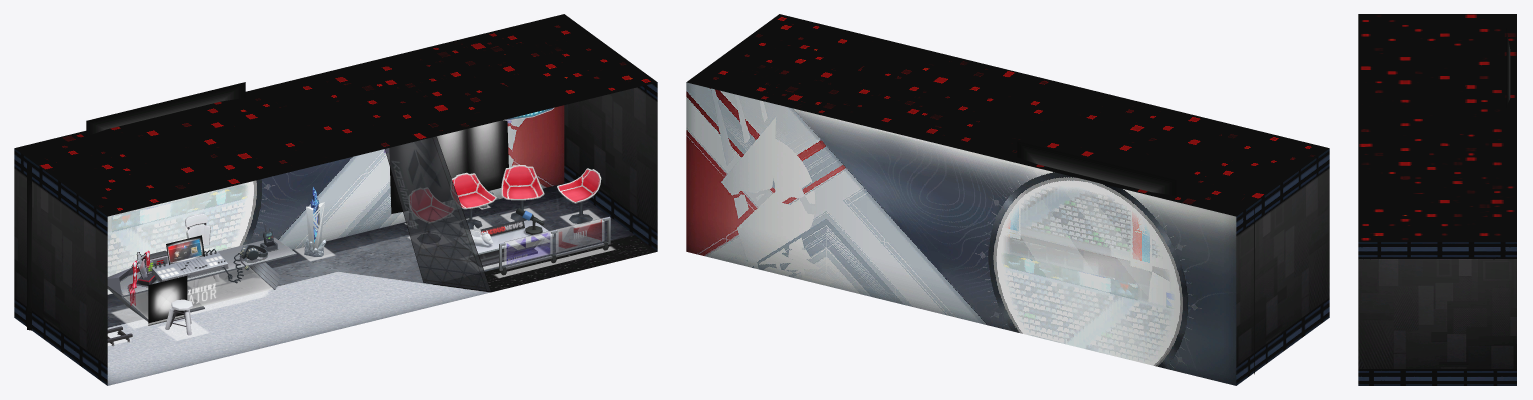
File: kazimierz.glb
The picture shows the model from 3 angles, left to right: view 1: azimuth 30°, elevation 25°; view 2: azimuth 150°, elevation 25°; view 3: azimuth 270°, elevation 25°; orthographic projection. The views are drawn at different scales.
Visible parts, largest first — view 1: ROOM_room, ROOM_floor, furni_kazimierz_partition_01, furni_kazimierz_LED_F_light_01, furni_kazimierz_chair_R_01, furni_kazimierz_desk_02, furni_kazimierz_desk_01, furni_kazimierz_desk_03, furni_kazimierz_partition2_02, furni_kazimierz_screen_light_01, furni_kazimierz_table_01, shadow.002 (+12 smaller); view 2: ROOM_room, furni_kazimierz_screen_light_01, ROOM_LDoor; view 3: ROOM_room, ROOM_RDoor, furni_kazimierz_screen_light_01.
Part boxes in pixels (x1,y1,x2,y2): ROOM_room: [14, 14, 657, 385]; ROOM_floor: [107, 183, 657, 385]; furni_kazimierz_partition_01: [385, 136, 491, 291]; furni_kazimierz_LED_F_light_01: [389, 120, 508, 213]; furni_kazimierz_chair_R_01: [408, 165, 544, 243]; furni_kazimierz_desk_02: [107, 224, 277, 305]; furni_kazimierz_desk_01: [107, 237, 296, 321]; furni_kazimierz_desk_03: [124, 252, 272, 318]; furni_kazimierz_partition2_02: [504, 217, 604, 265]; furni_kazimierz_screen_light_01: [86, 82, 245, 136]; furni_kazimierz_table_01: [454, 220, 553, 266]; shadow.002: [111, 278, 269, 328]; ROOM_room: [686, 14, 1329, 385]; furni_kazimierz_screen_light_01: [1017, 141, 1176, 195]; ROOM_LDoor: [1297, 251, 1315, 341]; ROOM_room: [1358, 14, 1516, 385]; ROOM_RDoor: [1381, 320, 1414, 385]; furni_kazimierz_screen_light_01: [1506, 28, 1510, 106].
Size of the model in its own units: 7.52 by 2.41 by 2.23.
7 materials, 7 textured.
